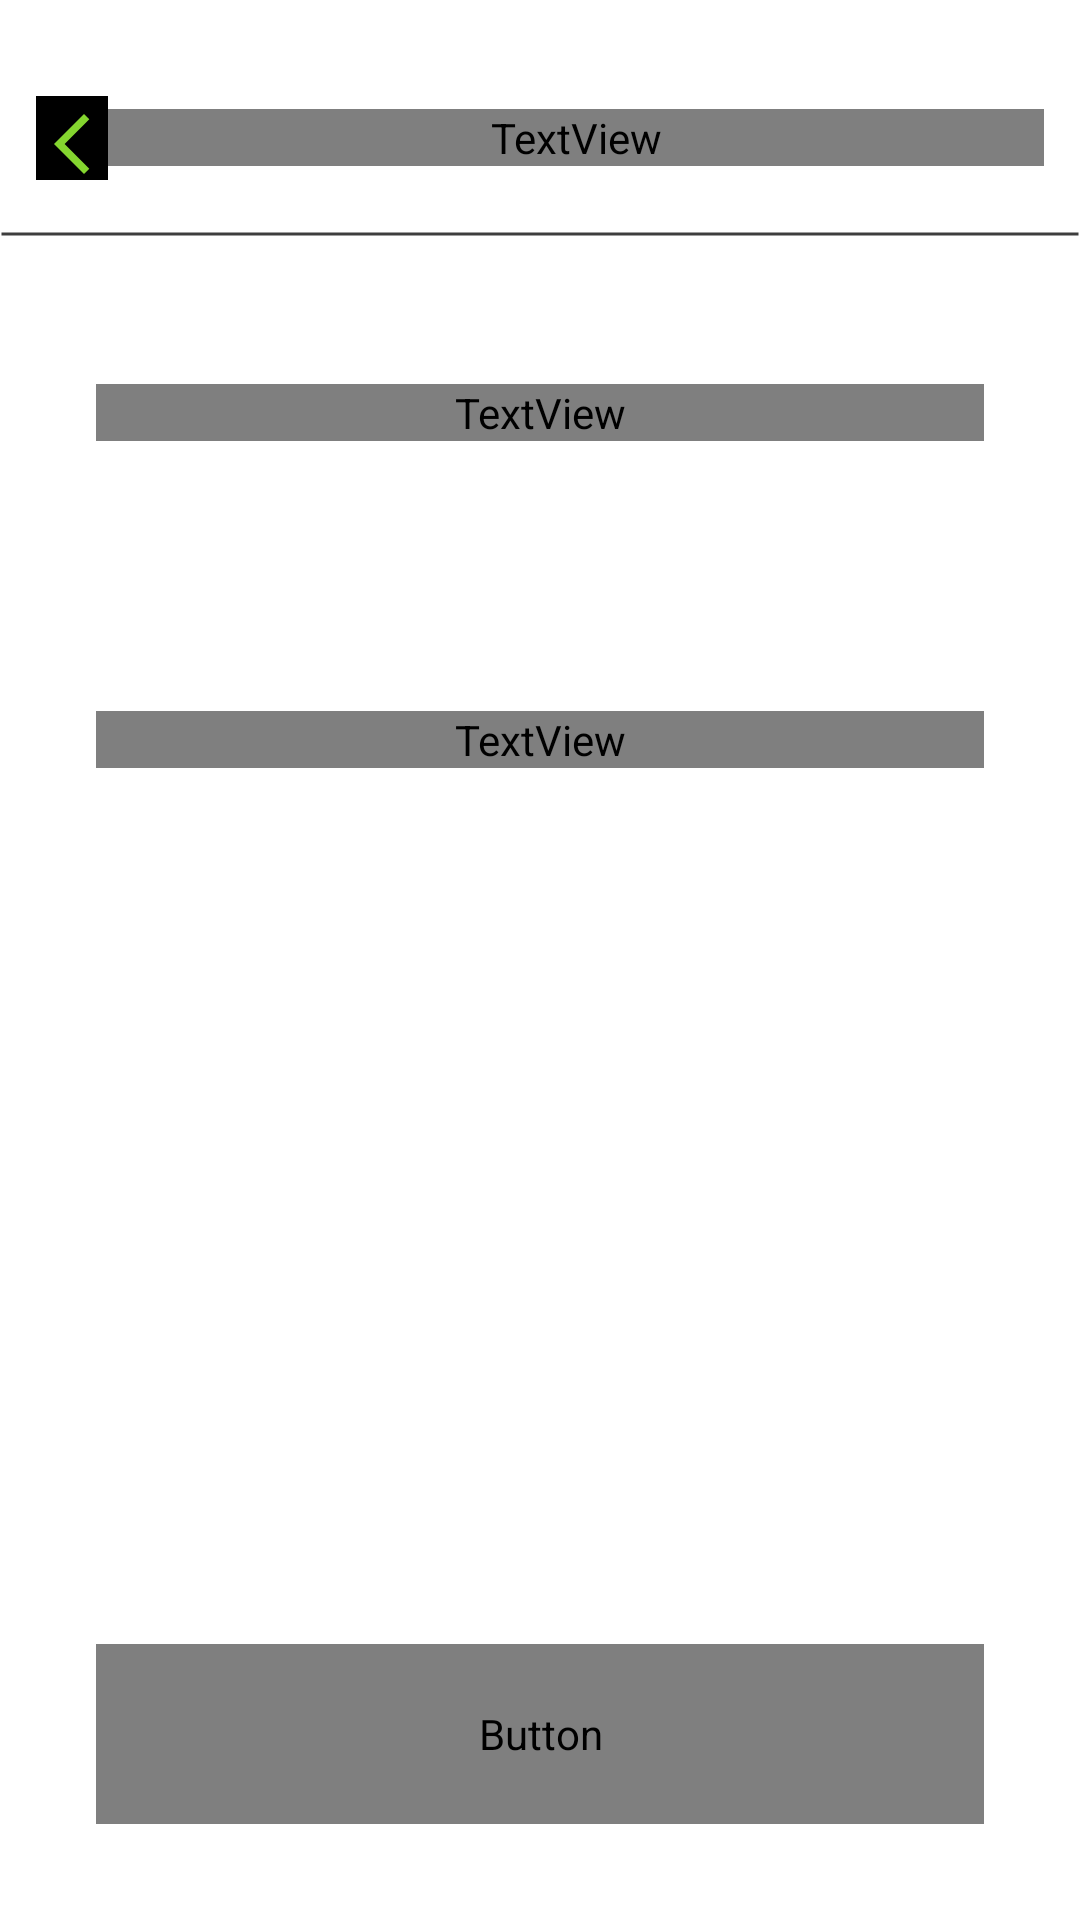

Where icons sit on this 1080*1920 app screen, as bbox=(x1, y1, x2, y2):
Go Back: bbox=(36, 96, 108, 180)
